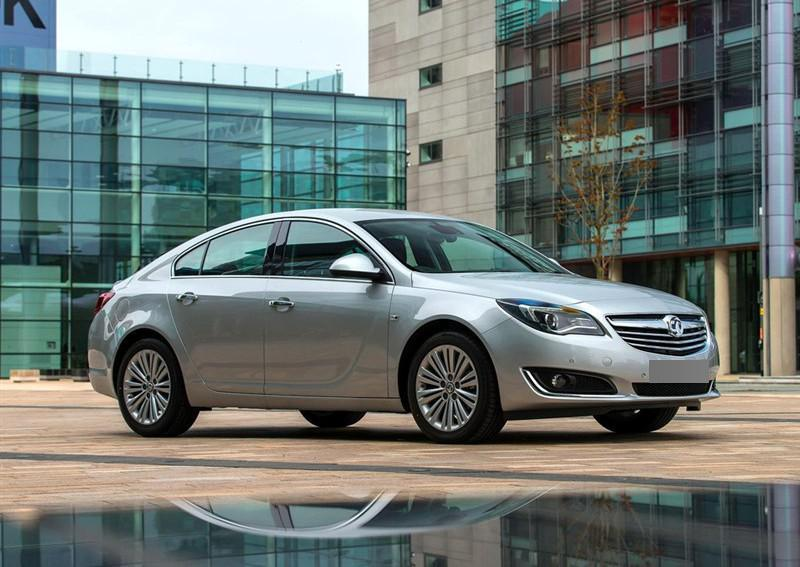Wagon: (86, 207, 721, 446)
